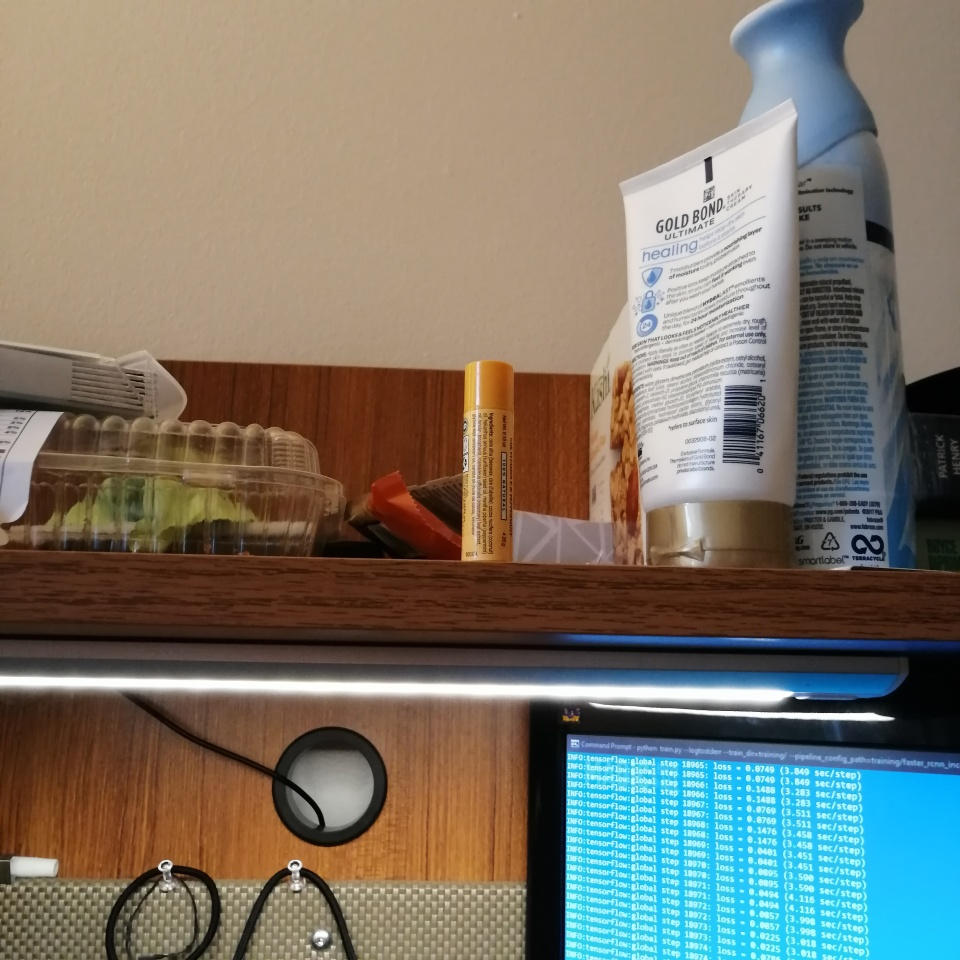chapstick: (461, 359, 515, 564)
